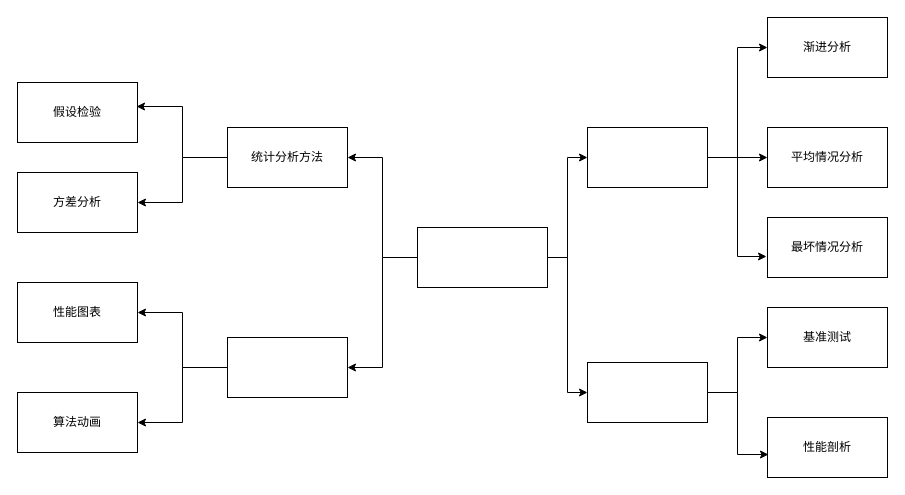
Some shapes in this 905 by 495 pixel diagram are drawn without their labels. Each missing label, with the centre of its shape:
"实验分析方法" goes at point (647, 392).
"方差分析‌" goes at point (287, 367).
"理论分析方法" goes at point (647, 157).
"算法性能分析四大类" goes at point (482, 257).
